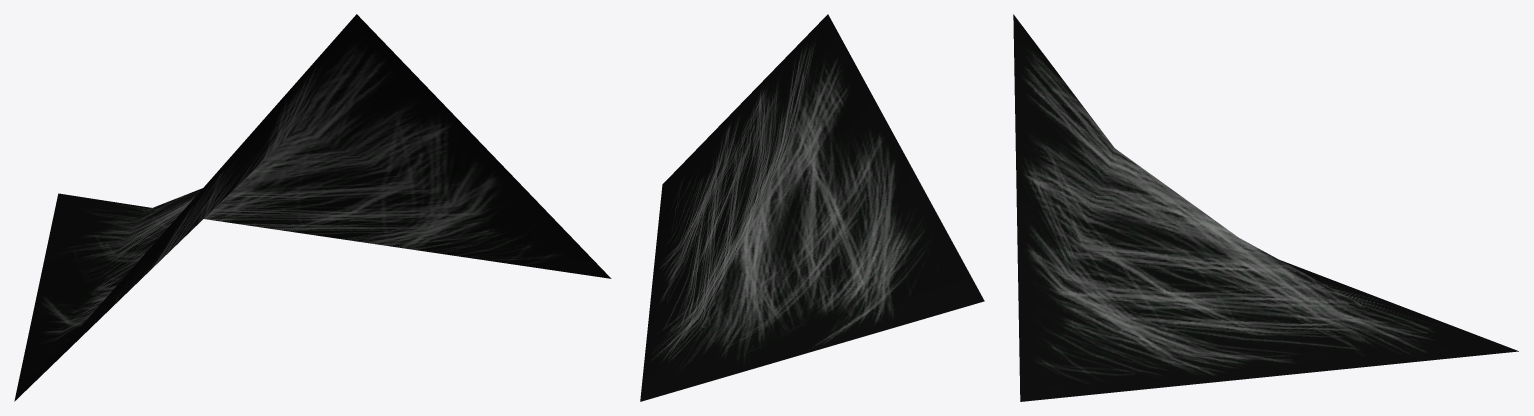
The model's file is EKH_GROTTO_PS_GR_CORNER_WEB__NC02.fbx.
3 renders of one model, left to right at view 1: azimuth 30°, elevation 25°; view 2: azimuth 150°, elevation 25°; view 3: azimuth 270°, elevation 25°, orthographic. The views are drawn at different scales.
Parts seen in each view (by area): view 1: EKH_GROTTO_PS_GR_CORNER_WEB__NC02; view 2: EKH_GROTTO_PS_GR_CORNER_WEB__NC02; view 3: EKH_GROTTO_PS_GR_CORNER_WEB__NC02.
Part boxes in pixels (bbox=[...]): EKH_GROTTO_PS_GR_CORNER_WEB__NC02: bbox=[14, 14, 611, 401]; EKH_GROTTO_PS_GR_CORNER_WEB__NC02: bbox=[640, 14, 984, 401]; EKH_GROTTO_PS_GR_CORNER_WEB__NC02: bbox=[1013, 14, 1518, 401].
Size of the model in its own units: 27654 by 18954 by 25770.
Materials: 1 (1 with a texture image).
